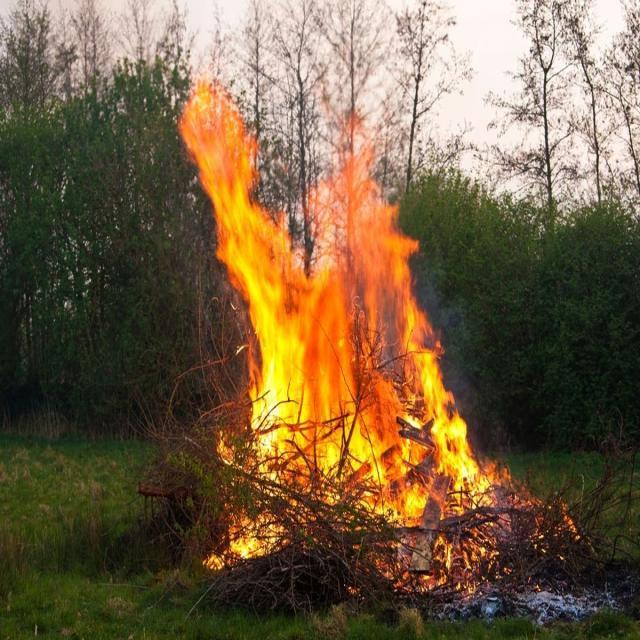Fire: (167, 41, 499, 576)
